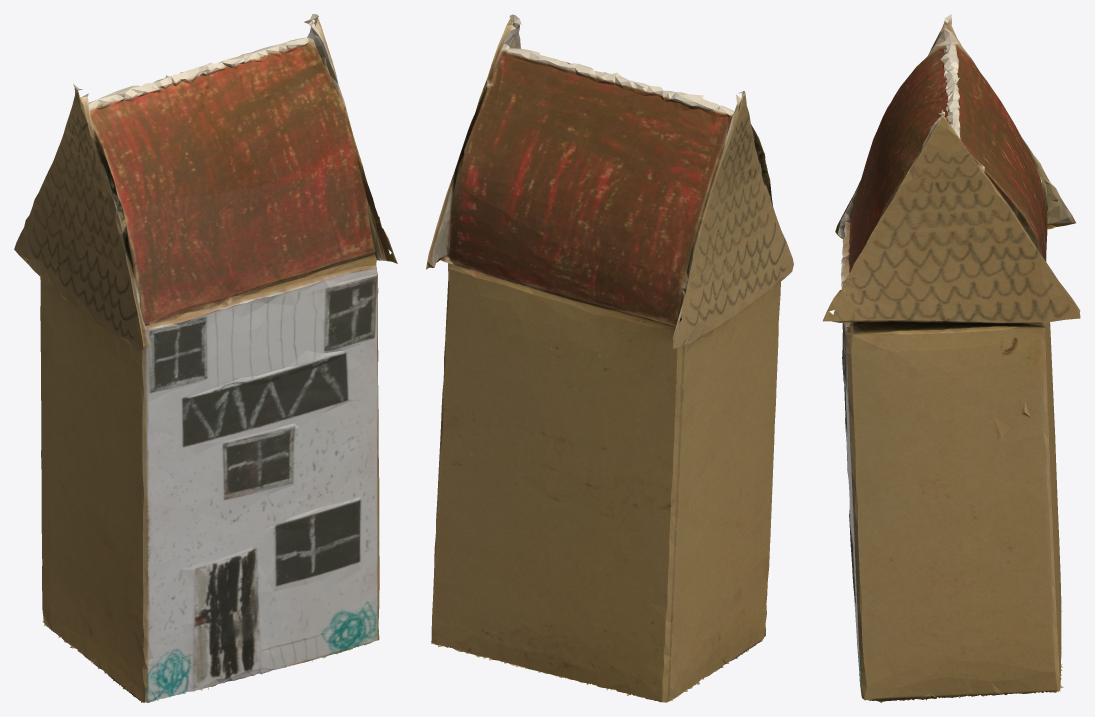
3 views of the same model, side by side, from view 1: azimuth 30°, elevation 25°; view 2: azimuth 150°, elevation 25°; view 3: azimuth 270°, elevation 25° (orthographic). The views are drawn at different scales.
Visible parts, largest first — view 1: Object_0; view 2: Object_0; view 3: Object_0.
Boxes of the visible parts, left/top/right/bottom form: Object_0: left=14, top=14, right=397, bottom=702; Object_0: left=426, top=14, right=793, bottom=702; Object_0: left=823, top=14, right=1080, bottom=702.
Size of the model in its own units: 12.02 by 26.48 by 10.59.
1 material, 1 textured.
